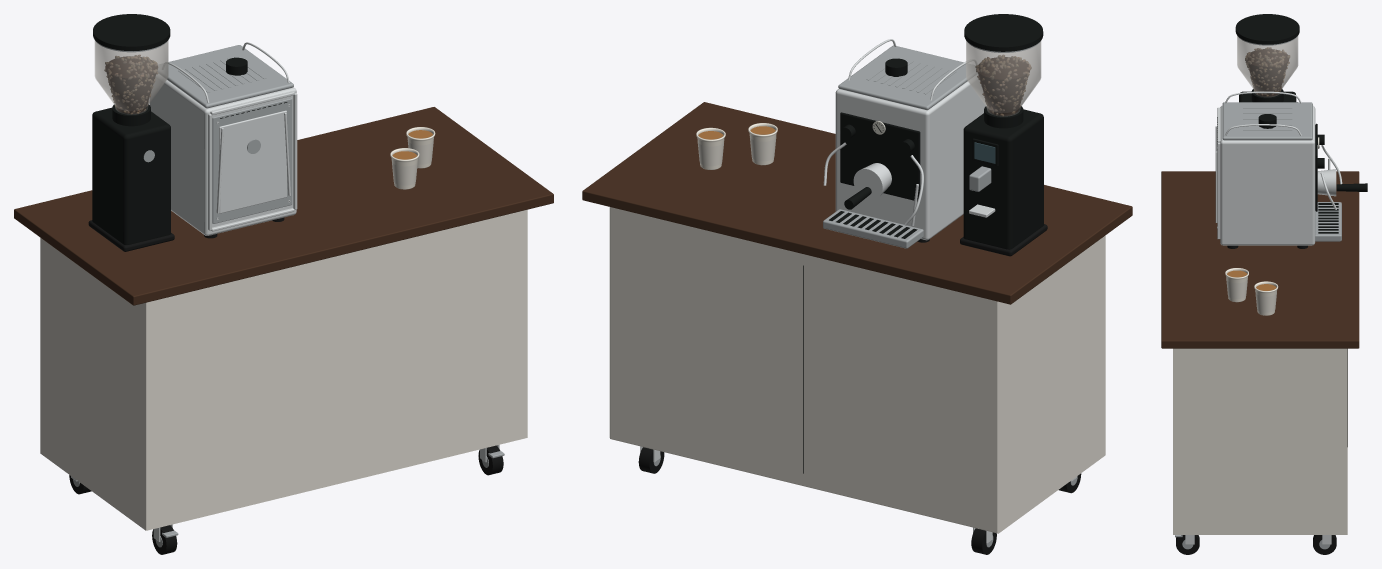
The model's file is eywa-bar-v3.glb.
3 renders of one model, left to right at view 1: azimuth 30°, elevation 25°; view 2: azimuth 150°, elevation 25°; view 3: azimuth 270°, elevation 25°, orthographic. The views are drawn at different scales.
Parts seen in each view (by area): view 1: BAR_FRONT, COUNTERTOP, BAR_LEFT, GRINDER_BODY, ESPRESSO_MACHINE, MACHINE_BACK_REFLECTOR, MACHINE_TOP, GRINDER_HOPPER, MACHINE_BACK_INSET, GRINDER_LID, HOPPER_BEANS, INDIVIDUAL_BEANS; view 2: BODY, COUNTERTOP, BAR_LEFT, ESPRESSO_MACHINE, GRINDER_BODY, MACHINE_TOP, MACHINE_CONTROL_PANEL, GRINDER_HOPPER, GRINDER_LID, DRIP_TRAY, HOPPER_BEANS, INDIVIDUAL_BEANS (+1 smaller); view 3: BAR_RIGHT, COUNTERTOP, ESPRESSO_MACHINE, MACHINE_TOP, GRINDER_HOPPER, GRINDER_LID, HOPPER_BEANS, DRIP_TRAY, CUP_BRAND (×2), INDIVIDUAL_BEANS, WHEELS (×2), CUP_PAPER (×2) (+5 smaller).
Part boxes in pixels (<box>): BAR_FRONT: <box>146,209,527,530</box>; COUNTERTOP: <box>14,107,553,305</box>; BAR_LEFT: <box>40,238,145,530</box>; GRINDER_BODY: <box>92,107,170,244</box>; ESPRESSO_MACHINE: <box>149,74,296,235</box>; MACHINE_BACK_REFLECTOR: <box>219,110,286,213</box>; MACHINE_TOP: <box>158,45,293,108</box>; GRINDER_HOPPER: <box>94,40,168,114</box>; MACHINE_BACK_INSET: <box>212,98,292,223</box>; GRINDER_LID: <box>93,14,170,50</box>; HOPPER_BEANS: <box>105,56,157,113</box>; INDIVIDUAL_BEANS: <box>104,55,158,114</box>; BODY: <box>609,207,997,533</box>; COUNTERTOP: <box>582,102,1132,304</box>; BAR_LEFT: <box>998,235,1105,533</box>; ESPRESSO_MACHINE: <box>835,74,985,240</box>; GRINDER_BODY: <box>963,109,1043,249</box>; MACHINE_TOP: <box>838,45,977,110</box>; MACHINE_CONTROL_PANEL: <box>840,112,920,201</box>; GRINDER_HOPPER: <box>966,41,1041,116</box>; GRINDER_LID: <box>964,14,1043,51</box>; DRIP_TRAY: <box>823,209,923,248</box>; HOPPER_BEANS: <box>978,57,1029,115</box>; INDIVIDUAL_BEANS: <box>975,55,1031,116</box>; BAR_RIGHT: <box>1173,348,1347,534</box>; COUNTERTOP: <box>1161,171,1359,348</box>; ESPRESSO_MACHINE: <box>1220,105,1315,245</box>; MACHINE_TOP: <box>1222,102,1312,140</box>; GRINDER_HOPPER: <box>1237,36,1298,96</box>; GRINDER_LID: <box>1235,14,1299,44</box>; HOPPER_BEANS: <box>1247,49,1289,96</box>; DRIP_TRAY: <box>1315,202,1341,241</box>; CUP_BRAND (×2): <box>1226,279,1276,312</box>; INDIVIDUAL_BEANS: <box>1245,47,1289,96</box>; WHEELS (×2): <box>1176,535,1336,554</box>; CUP_PAPER (×2): <box>1225,268,1278,315</box>.
Bounding box in the file's own units: 1.38 × 1.51 × 0.708.
